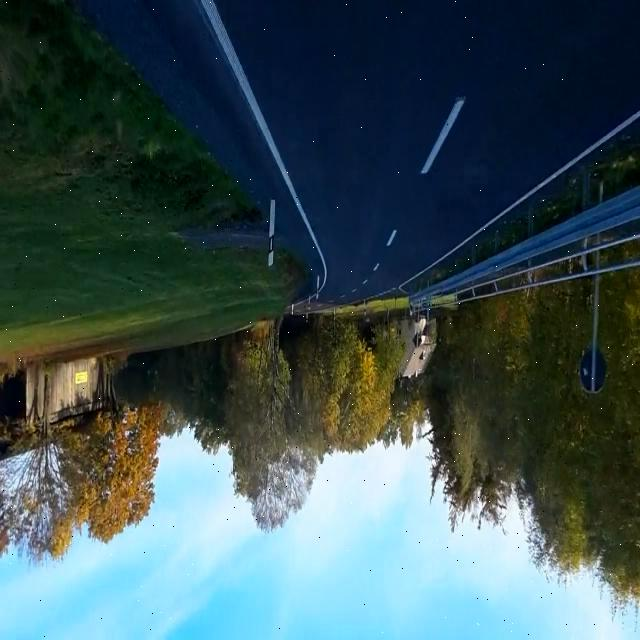lane: (399, 109, 639, 290), (200, 0, 328, 289), (420, 97, 465, 175), (387, 229, 398, 246)
road: (215, 1, 640, 304), (73, 1, 323, 273)
